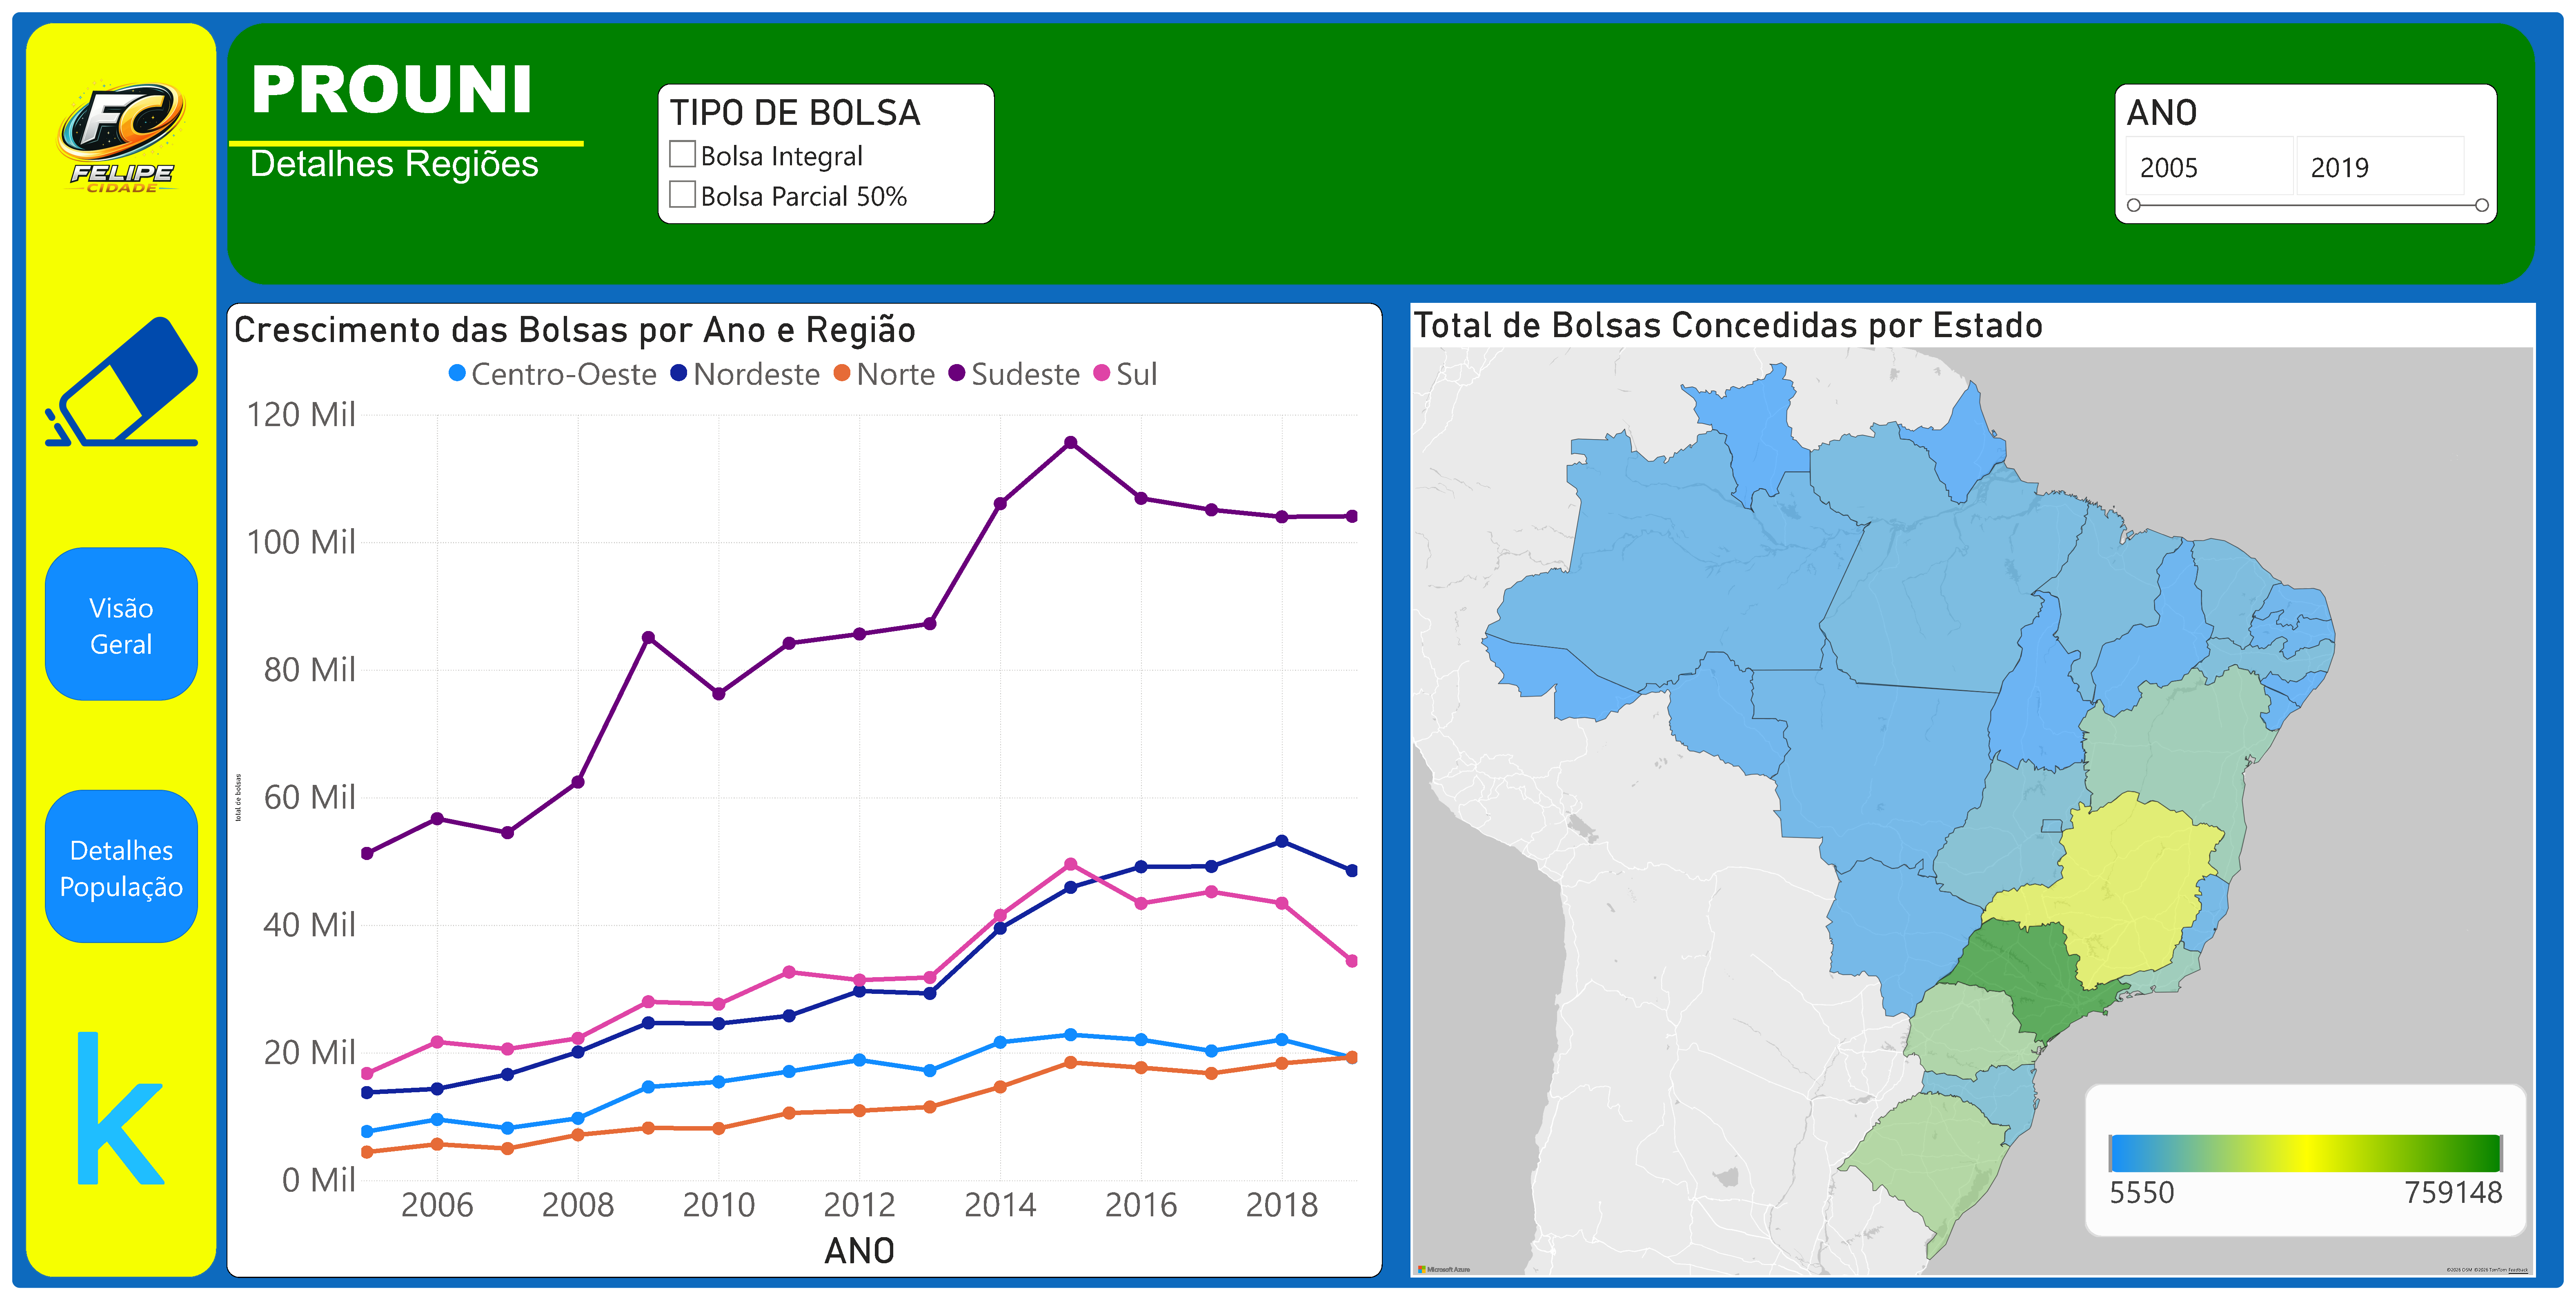

Layout of this report page (visuals, bound fields, positions):
{"tool":"powerbi","page":{"name":"detalhes regiões","canvas":[5000,2500],"ordinal":2},"visuals":[{"type":"group","id":"g1","title":"Elementos de Layout","box":[0,0,5000,2500],"z":0},{"type":"shape","title":"fundo-azul","box":[0,0,5000,2500],"z":500,"group":"g1"},{"type":"shape","title":"lateral-amarela","box":[25.9,20,375,2459.6],"z":1000,"group":"g1"},{"type":"slicer","fields":{"Values":["prouni_2005_2019_processed.ANO DE CONCESSÃO"]},"box":[4120,140,750,275],"z":1000},{"type":"image","title":"Kaggle","box":[27.1,1999.5,372.5,298],"z":1000,"group":"g2"},{"type":"shape","title":"superior-verde","box":[420,20,4525,515],"z":2000,"group":"g1"},{"type":"image","title":"logo","box":[25.9,99.3,375,300],"z":2000,"group":"g2"},{"type":"textbox","box":[460,250,670,145],"z":2000},{"type":"group","id":"g2","title":"Botões e logo","box":[25.9,99.3,375,2198.2],"z":2500,"group":"g1"},{"type":"textbox","box":[460,50,625,200],"z":3000},{"type":"lineChart","title":"Crescimento das Bolsas por Ano e Região","fields":{"Category":["prouni_2005_2019_processed.ANO"],"Series":["prouni_2005_2019_processed.REGIÃO"],"Y":["medidas.total de bolsas"]},"box":[420,570,2265,1910],"z":4000},{"type":"slicer","fields":{"Values":["prouni_2005_2019_processed.TIPO DE BOLSA"]},"box":[1265,140,660,275],"z":5000},{"type":"azureMap","title":"Total de Bolsas Concedidas por Estado","fields":{"Category":["prouni_2005_2019_processed.Estado_Extenso"]},"box":[2740,570,2205,1910],"z":7000},{"type":"image","box":[4055,2100,880,300],"z":8000},{"type":"image","box":[64.4,574.3,300,300],"z":9000},{"type":"shape","title":"Detalhes População","box":[64.4,1049.4,300,300],"z":10000},{"type":"shape","title":"Detalhes População","box":[64.4,1524.5,300,300],"z":11000},{"type":"shape","box":[425,105,695,305],"z":12000}]}

Visuals, with their boxes in screenshot pixels (x1, y1, x2, y2), scaled from the page's 5000x2500 canvas onto the 2576x1300 screenshot:
"Elementos de Layout" group: [0,0,2576,1300]
"fundo-azul" shape: [0,0,2576,1300]
"lateral-amarela" shape: [13,10,207,1289]
slicer - prouni_2005_2019_processed.ANO DE CONCESSÃO: [2122,73,2509,216]
"Kaggle" image: [14,1040,206,1195]
"superior-verde" shape: [216,10,2548,278]
"logo" image: [13,52,207,208]
textbox: [237,130,582,205]
"Botões e logo" group: [13,52,207,1195]
textbox: [237,26,559,130]
"Crescimento das Bolsas por Ano e Região" lineChart: [216,296,1383,1290]
slicer - prouni_2005_2019_processed.TIPO DE BOLSA: [652,73,992,216]
"Total de Bolsas Concedidas por Estado" azureMap: [1412,296,2548,1290]
image: [2089,1092,2543,1248]
image: [33,299,188,455]
"Detalhes População" shape: [33,546,188,702]
"Detalhes População" shape: [33,793,188,949]
shape: [219,55,577,213]
